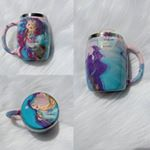cups: (82, 30, 146, 96), (1, 9, 54, 64), (2, 90, 61, 136)
